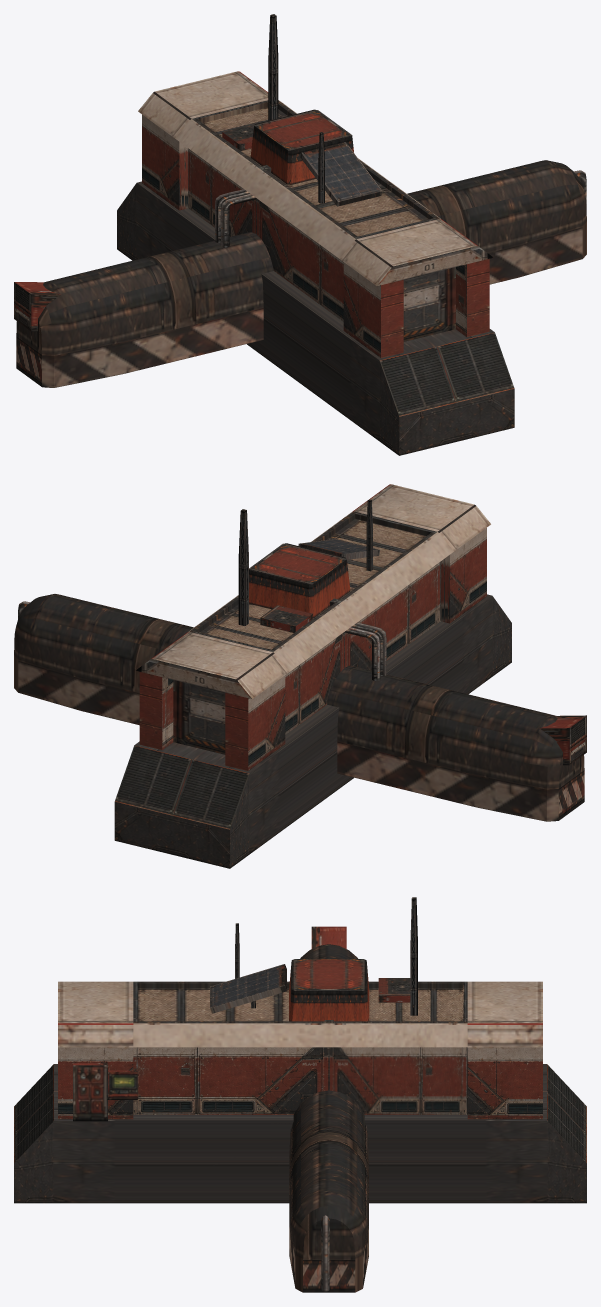
File: greenhouse.dae
3 renders of one model, top to bottom at view 1: azimuth 30°, elevation 25°; view 2: azimuth 150°, elevation 25°; view 3: azimuth 270°, elevation 25°, orthographic.
Visible parts, largest first — view 1: greenhouse; view 2: greenhouse; view 3: greenhouse.
Part boxes in pixels (<box>): greenhouse: <box>14,14,586,455</box>; greenhouse: <box>14,484,586,868</box>; greenhouse: <box>14,897,586,1292</box>.
Bounding box in the file's own units: 41.91 × 36.45 × 19.88.
